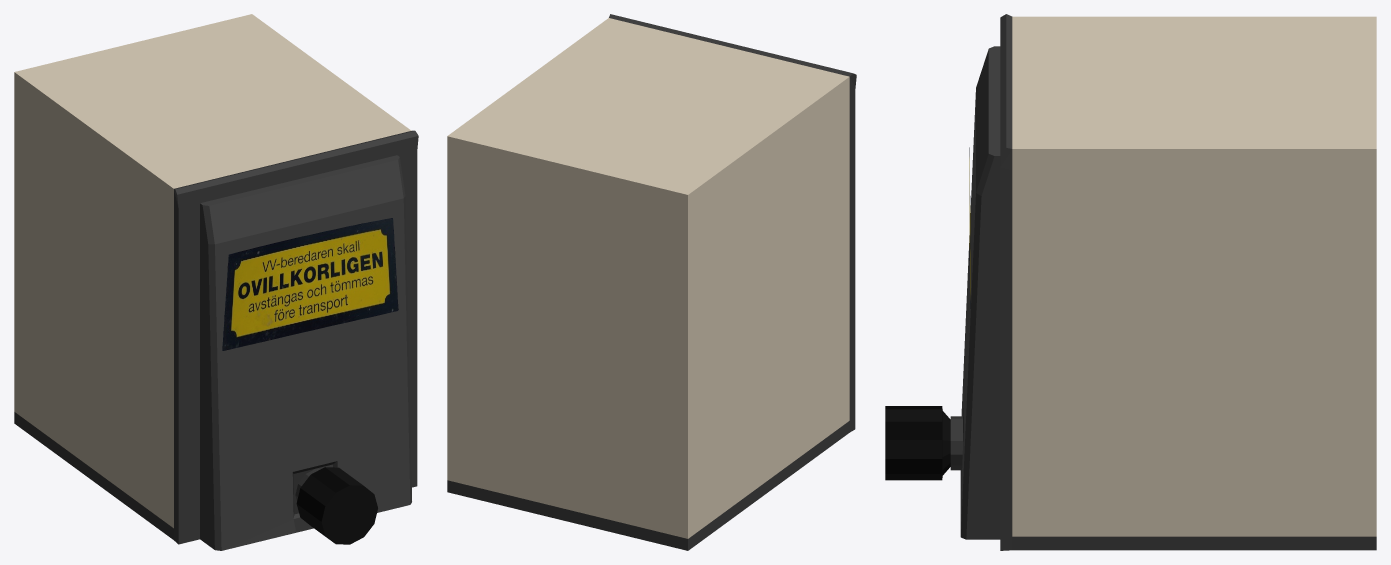
The model's file is VVB1.fbx.
The picture shows the model from 3 angles, left to right: view 1: azimuth 30°, elevation 25°; view 2: azimuth 150°, elevation 25°; view 3: azimuth 270°, elevation 25°; orthographic projection. The views are drawn at different scales.
Parts seen in each view (by area): view 1: VVB_geo, VVB_sticker, VVB_handle; view 2: VVB_geo; view 3: VVB_geo, VVB_handle.
Boxes of the visible parts, x1,y1,x2,y2 form: VVB_geo: [14, 14, 418, 550]; VVB_sticker: [222, 218, 398, 350]; VVB_handle: [295, 467, 377, 544]; VVB_geo: [447, 14, 856, 550]; VVB_geo: [960, 14, 1376, 550]; VVB_handle: [885, 406, 962, 480].
Size of the model in its own units: 50.76 by 71.01 by 78.34.
2 materials, 1 textured.
